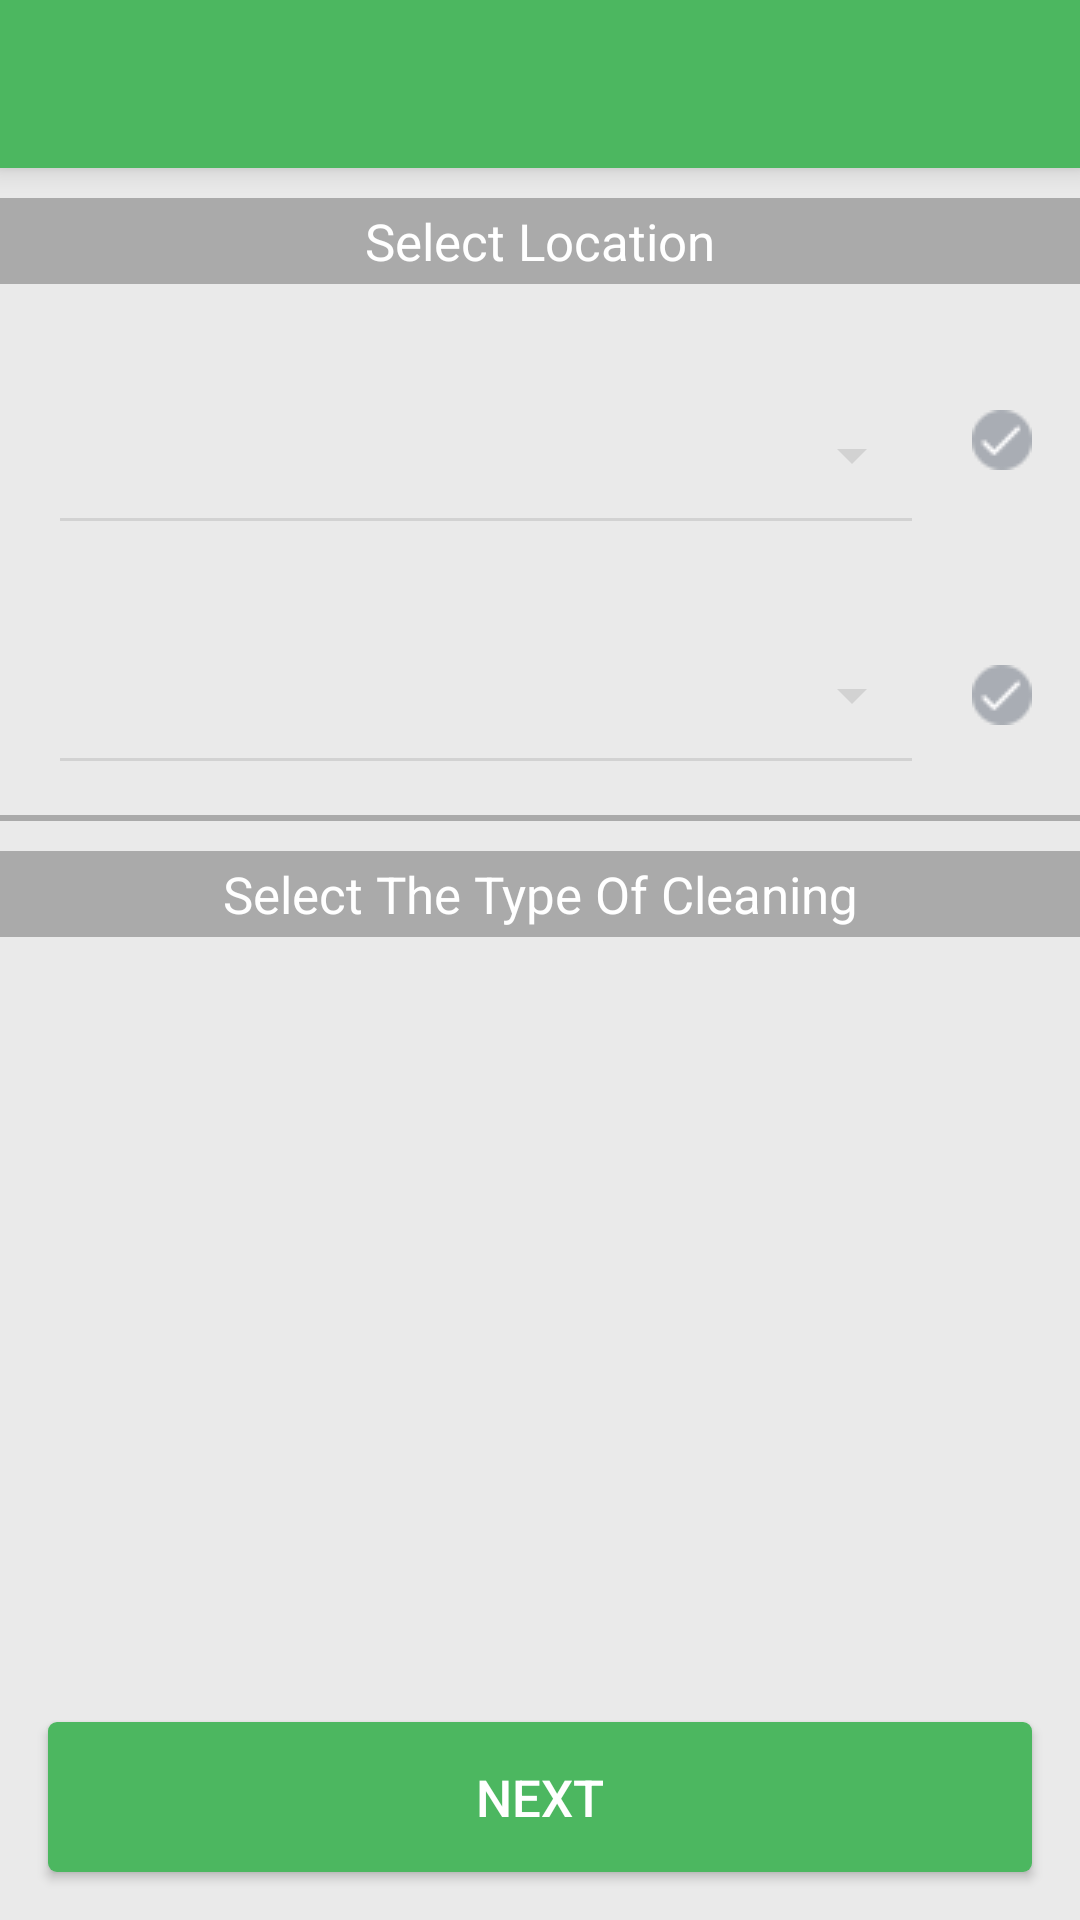

Named icons in this screenshot (1080×1920) and their bounding boxes, (x1, y1, x2, y2):
tick mark: (972, 410, 1032, 470), (972, 665, 1032, 725)
